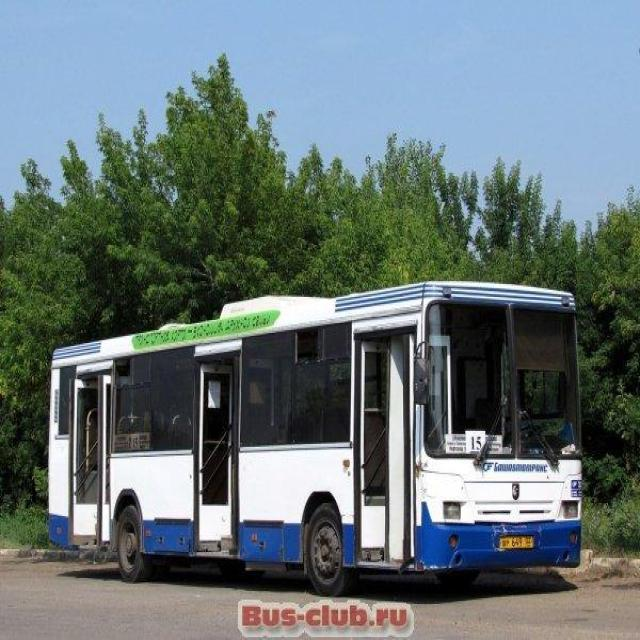bus: (38, 275, 593, 602)
